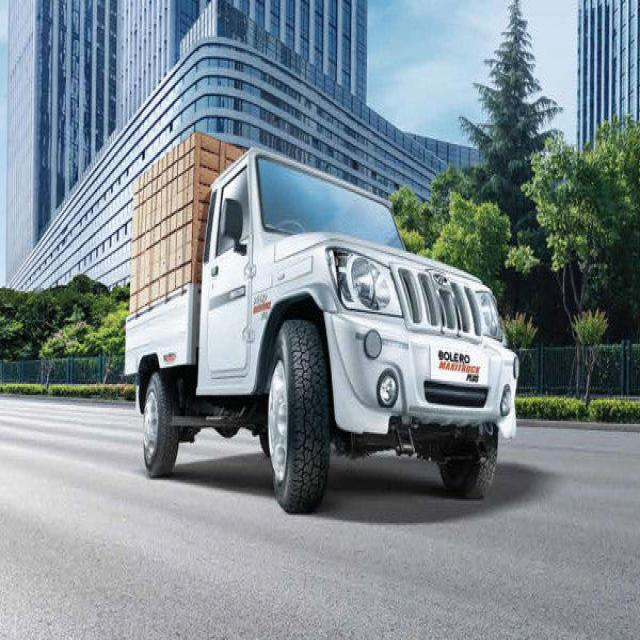light_vehicle: (205, 163, 520, 498)
